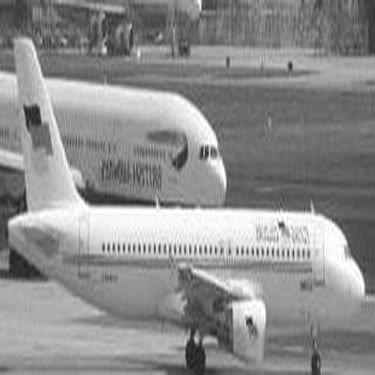airplane: (1, 13, 371, 372), (1, 53, 236, 217)
